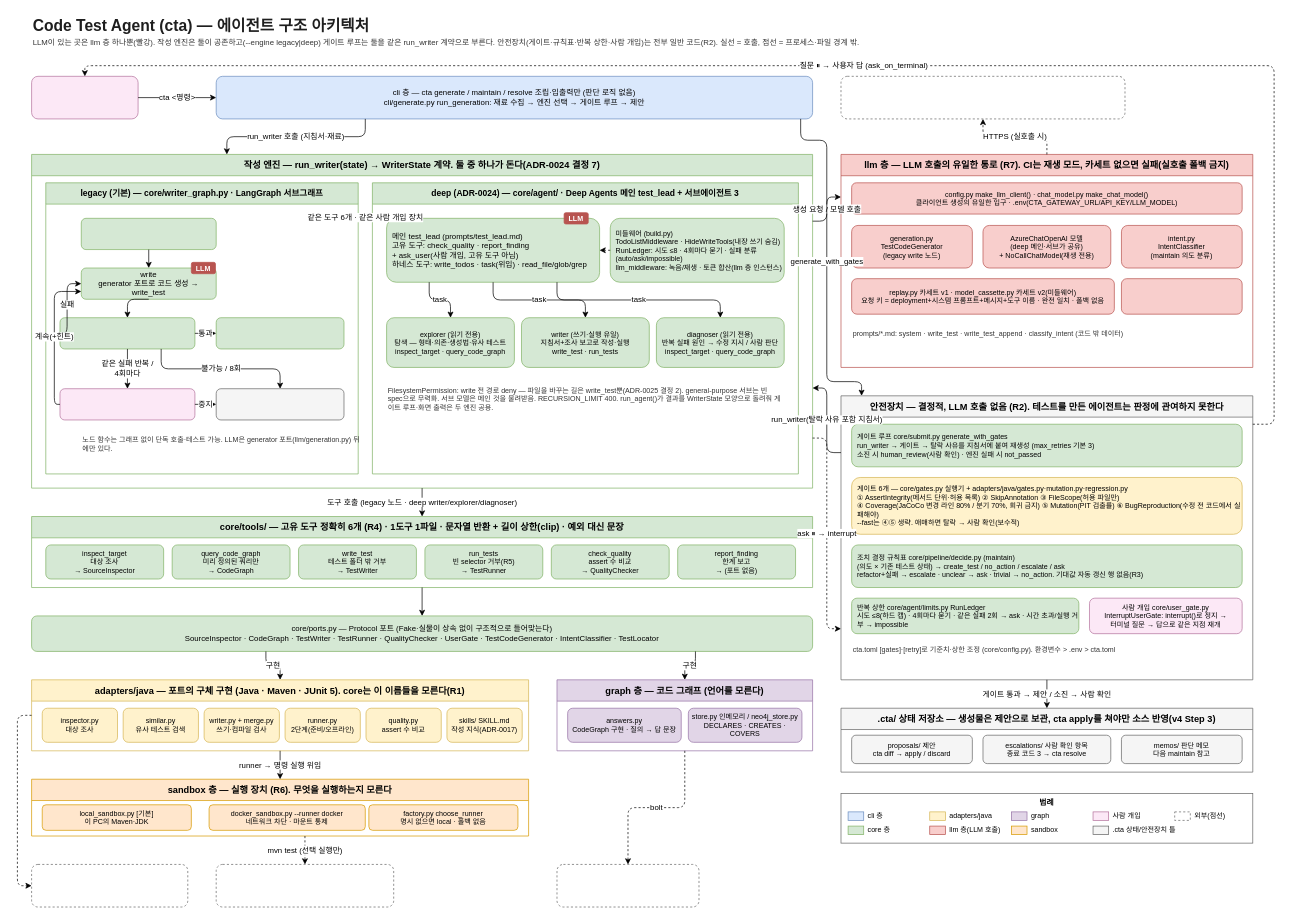
Some shapes in this 1292 by 919 pixel diagram are drawn without their labels. Each missing label, with the centre of its shape:
"ask ⏸ interrupt 사용자에게 계속/중지/힌트" belongs at (127,404).
"gather 정보 수집 (inspect_target · query_code_graph)" belongs at (148,234).
"metering.py 토큰·예산 masking.py 시크릿 가림" belongs at (1181,296).
"Neo4j (선택) 없으면 파싱 폴백" belongs at (627,885).
"quality check_quality → status=passed" belongs at (279,333).
"report 한계 보고 (정상 종료)" belongs at (279,404).
"run run_tests (선택 실행만)" belongs at (127,333).
"대상 Maven 프로젝트 (src/main · src/test · pom.xml · git) adapters가 소스 읽기 · 테스트 파일 쓰기" belongs at (109,885).
"로컬 Maven · JDK 17+ (~/.m2) 또는 Docker 컨테이너(격리)" belongs at (304,885).
"사내 LLM 게이트웨이 Azure OpenAI 호환 · deployment = 모델(gpt-5) 주소·키는 환경변수/.env로만" belongs at (982,97).
"사용자 (터미널 · CI)" belongs at (84,97).
